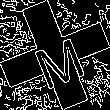M_N: (24, 23, 86, 87)
